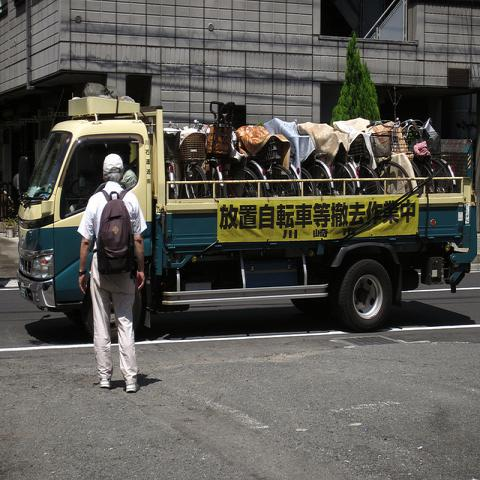truck: (16, 93, 419, 345)
